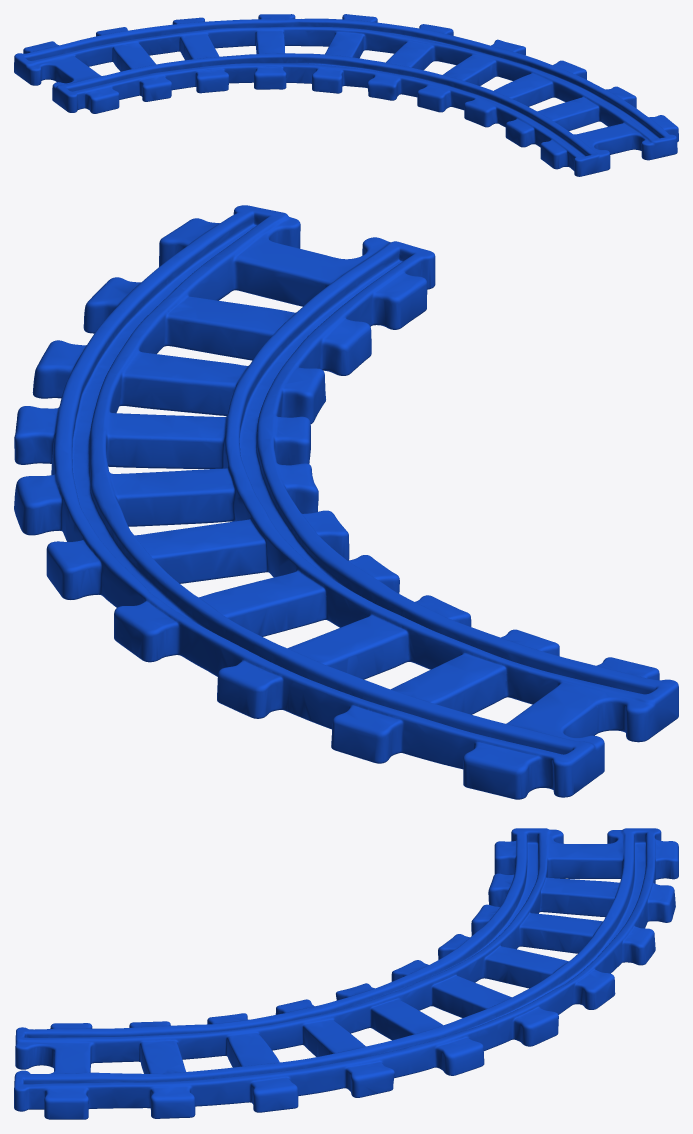
Rendered from Curved_Blue_Rail.fbx.
The picture shows the model from 3 angles, top to bottom: view 1: azimuth 30°, elevation 25°; view 2: azimuth 150°, elevation 25°; view 3: azimuth 270°, elevation 25°; orthographic projection. The views are drawn at different scales.
Visible parts, largest first — view 1: Curved_Blue_Rail; view 2: Curved_Blue_Rail; view 3: Curved_Blue_Rail.
Part boxes in pixels (box(x1,y1,x2,y2)): Curved_Blue_Rail: box(14, 14, 678, 176); Curved_Blue_Rail: box(14, 205, 678, 799); Curved_Blue_Rail: box(14, 828, 678, 1119).
Size of the model in its own units: 1.83 by 0.081 by 1.9.
Materials: 1 (1 with a texture image).
